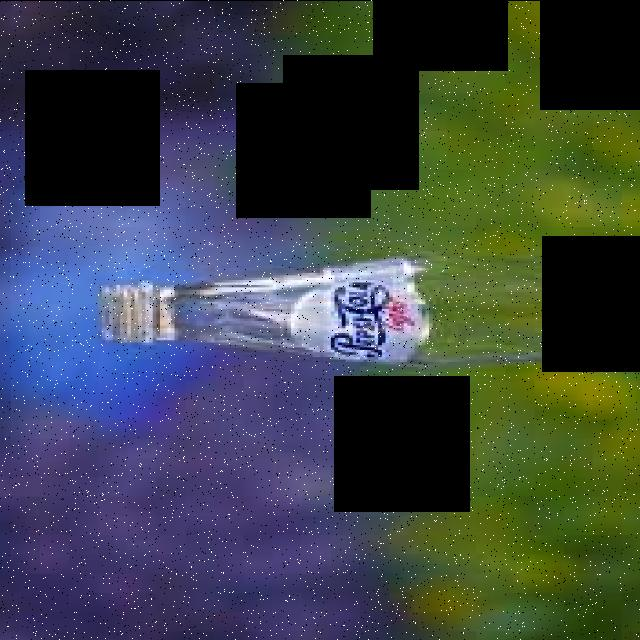glass-bottle: (84, 233, 640, 396)
